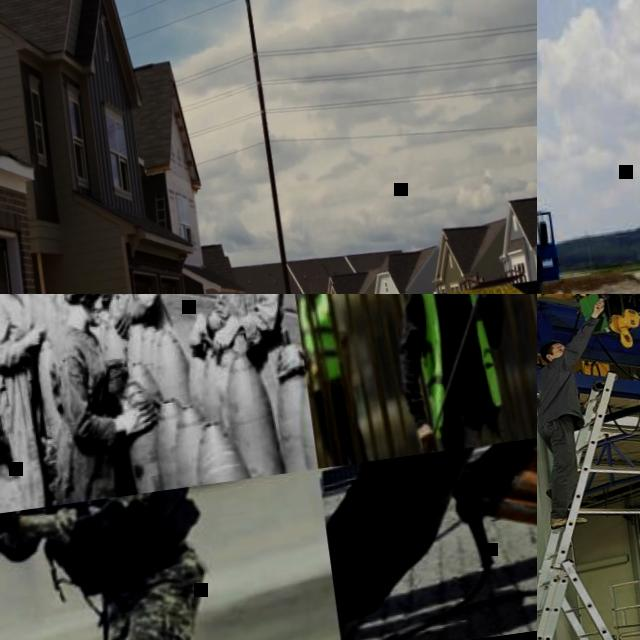Mask: (88, 306, 111, 328), (294, 294, 311, 299)
NO-Hardhat: (539, 341, 563, 358)
NO-Safety Vest: (48, 322, 119, 446), (537, 356, 582, 426), (0, 294, 37, 371), (207, 294, 265, 315)
Person: (0, 484, 225, 640), (31, 294, 168, 503), (377, 294, 529, 453), (537, 297, 635, 529), (289, 294, 374, 467), (0, 294, 64, 512), (185, 294, 292, 352), (73, 294, 173, 335)
Safety Vest: (405, 294, 507, 423), (297, 294, 350, 381)
vehicle: (537, 8, 572, 294)
